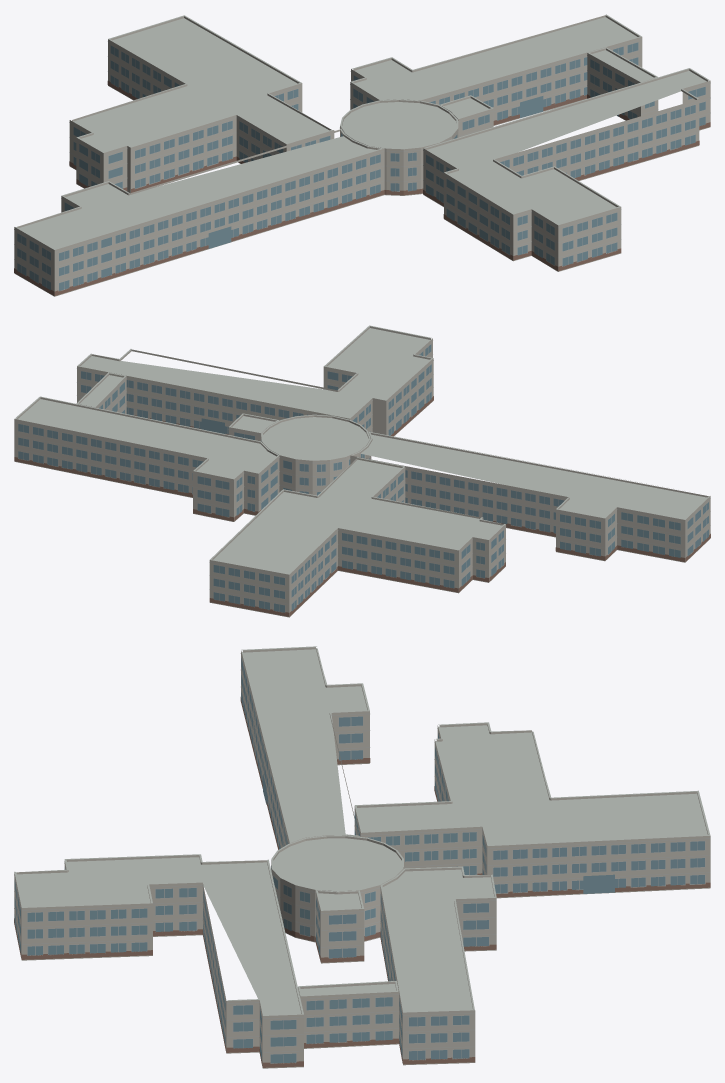
The model's file is public-319b7a83-dcb4-4630-8532-a5df000ba9eb.glb.
3 renders of one model, top to bottom at view 1: azimuth 30°, elevation 25°; view 2: azimuth 150°, elevation 25°; view 3: azimuth 270°, elevation 25°, orthographic. The views are drawn at different scales.
Parts seen in each view (by area): view 1: public-319b7a83-dcb4-4630-8532-a5df000ba9eb; view 2: public-319b7a83-dcb4-4630-8532-a5df000ba9eb; view 3: public-319b7a83-dcb4-4630-8532-a5df000ba9eb.
Part boxes in pixels (x1,y1,x2,y2): public-319b7a83-dcb4-4630-8532-a5df000ba9eb: (14,14,710,296); public-319b7a83-dcb4-4630-8532-a5df000ba9eb: (14,325,710,617); public-319b7a83-dcb4-4630-8532-a5df000ba9eb: (14,646,710,1068).
Size of the model in its own units: 138 by 9.15 by 110.
